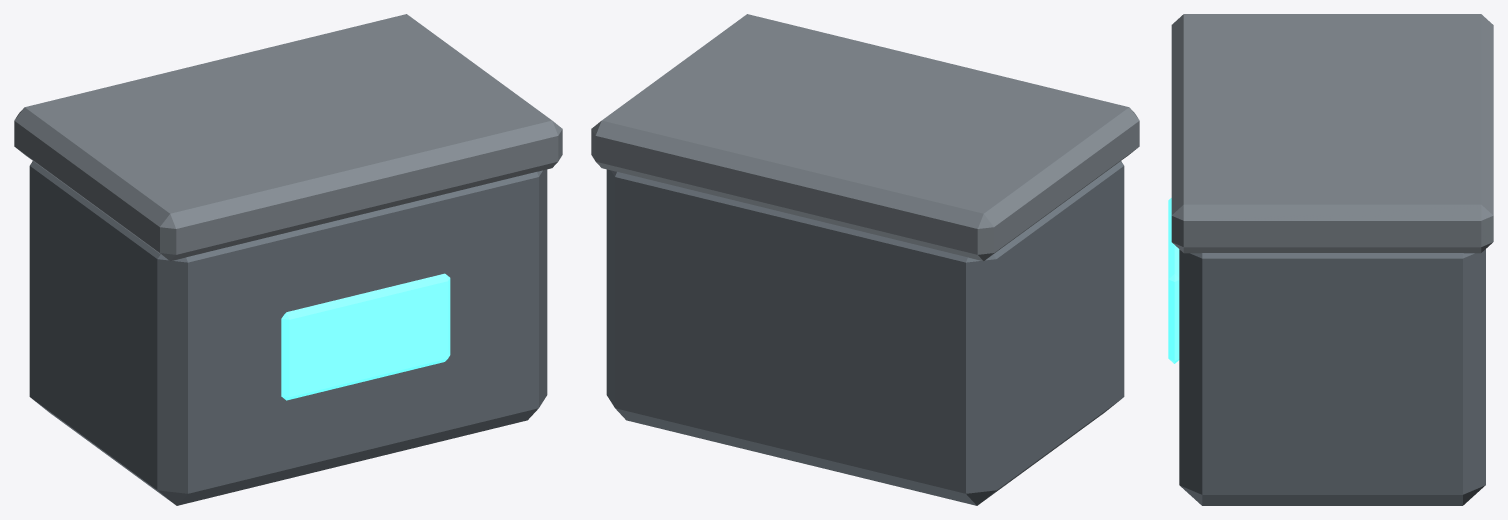
File: PROP_AmmoBox_WorldTP_v01.glb
The picture shows the model from 3 angles, left to right: view 1: azimuth 30°, elevation 25°; view 2: azimuth 150°, elevation 25°; view 3: azimuth 270°, elevation 25°; orthographic projection. The views are drawn at different scales.
Parts seen in each view (by area): view 1: MESH_Prop, MESH_Lid, MESH_AmmoLabel; view 2: MESH_Prop, MESH_Lid; view 3: MESH_Prop, MESH_Lid, MESH_AmmoLabel.
Boxes of the visible parts, <box> form: MESH_Prop: <box>29,161,547,505</box>; MESH_Lid: <box>14,14,562,261</box>; MESH_AmmoLabel: <box>281,273,450,400</box>; MESH_Prop: <box>606,161,1124,505</box>; MESH_Lid: <box>591,14,1139,261</box>; MESH_Prop: <box>1179,249,1485,505</box>; MESH_Lid: <box>1171,14,1493,253</box>; MESH_AmmoLabel: <box>1168,198,1179,363</box>.
Bounding box in the file's own units: 0.31 × 0.2225 × 0.212.
